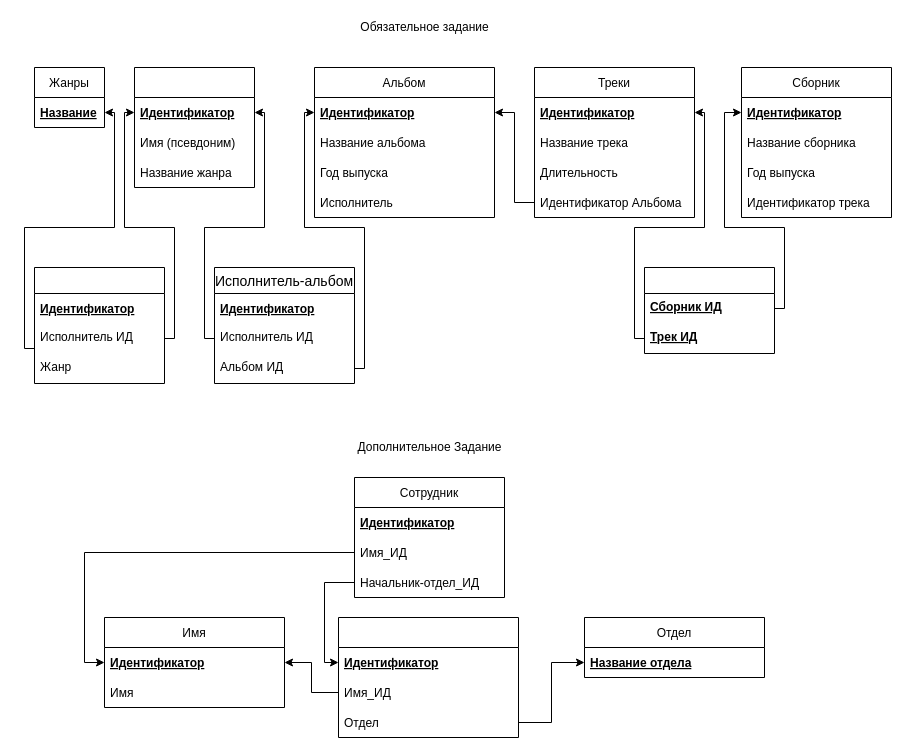
The diagram is 909 pixels wide and 755 high, and some of its shapes have lost their labels. The box of each missing label's shape, as (x1, y1, x2, y2) in pixels:
Исполнители: (134, 66, 254, 188)
Исполнитель-жанр: (34, 266, 164, 384)
Начальник-отдел: (338, 616, 518, 738)
Сборник-Трек: (644, 266, 774, 354)
